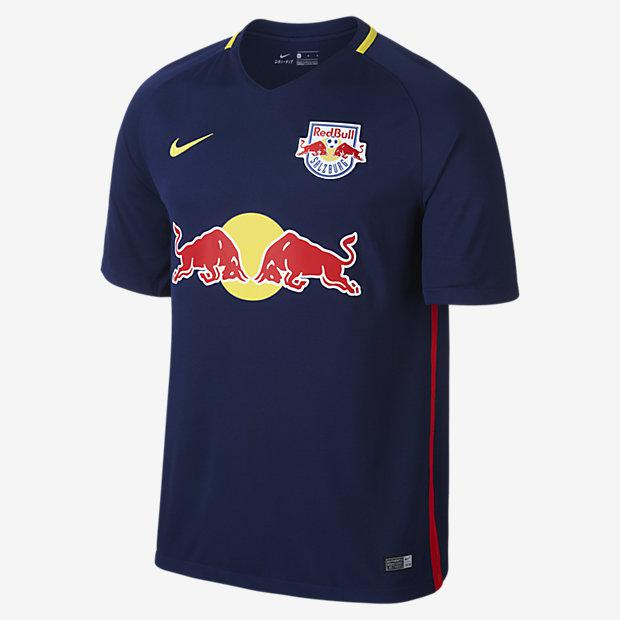teeshirt: (89, 9, 546, 620)
